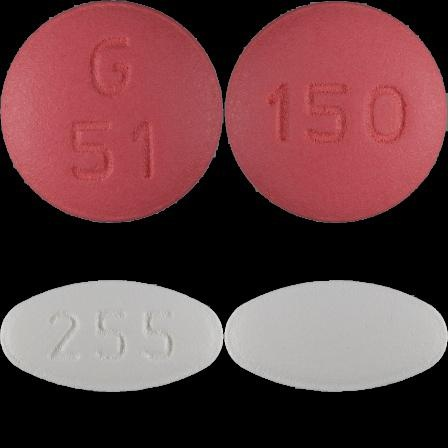70786-0248: (0, 0, 224, 224)
